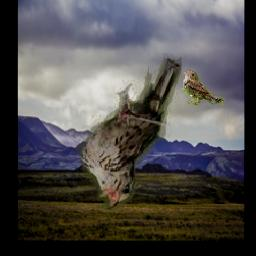Sparrow: (77, 53, 182, 210), (182, 68, 226, 105)
